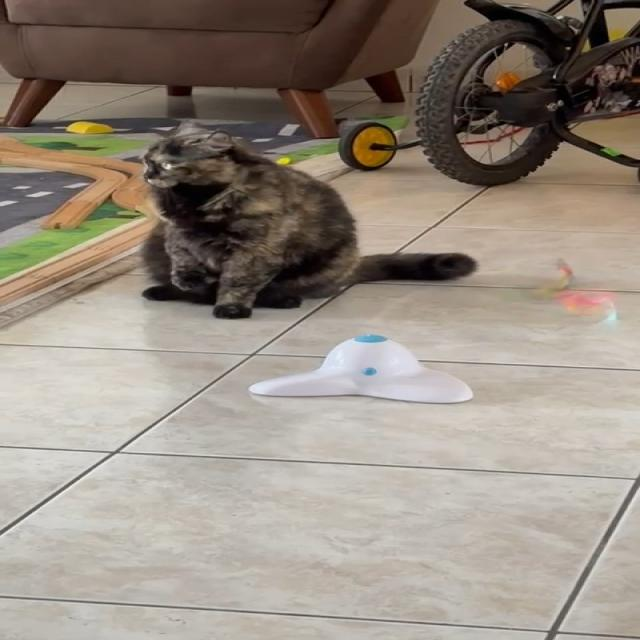authorized: (137, 119, 479, 319)
